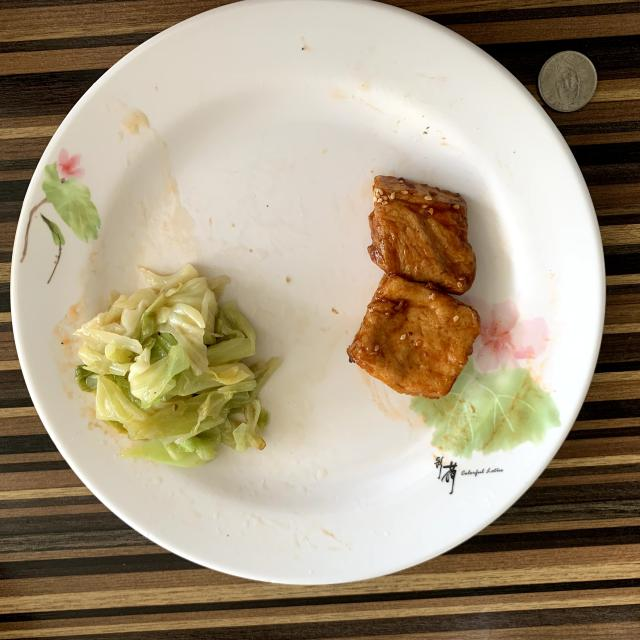cabbage: (75, 264, 280, 468)
coin: (538, 51, 598, 112)
creamy tofu: (348, 175, 480, 399)
